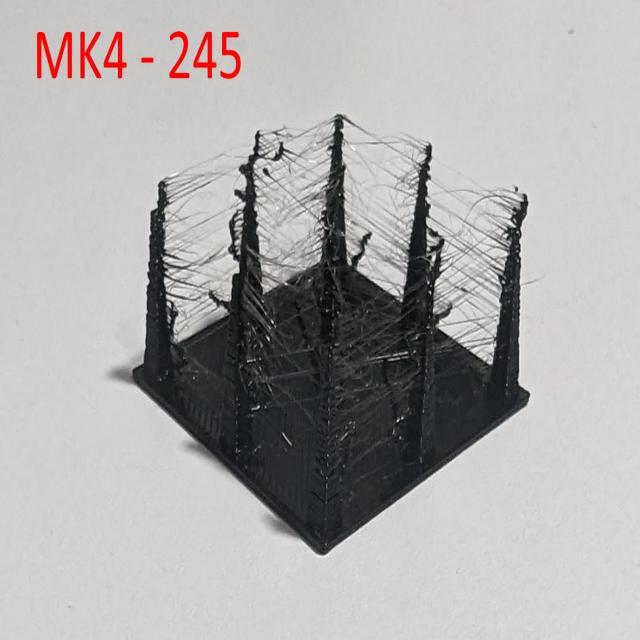stringing: (255, 220, 332, 459), (344, 280, 420, 496), (171, 137, 246, 353), (254, 110, 336, 295), (432, 157, 520, 327), (347, 113, 423, 303), (438, 191, 518, 365)
